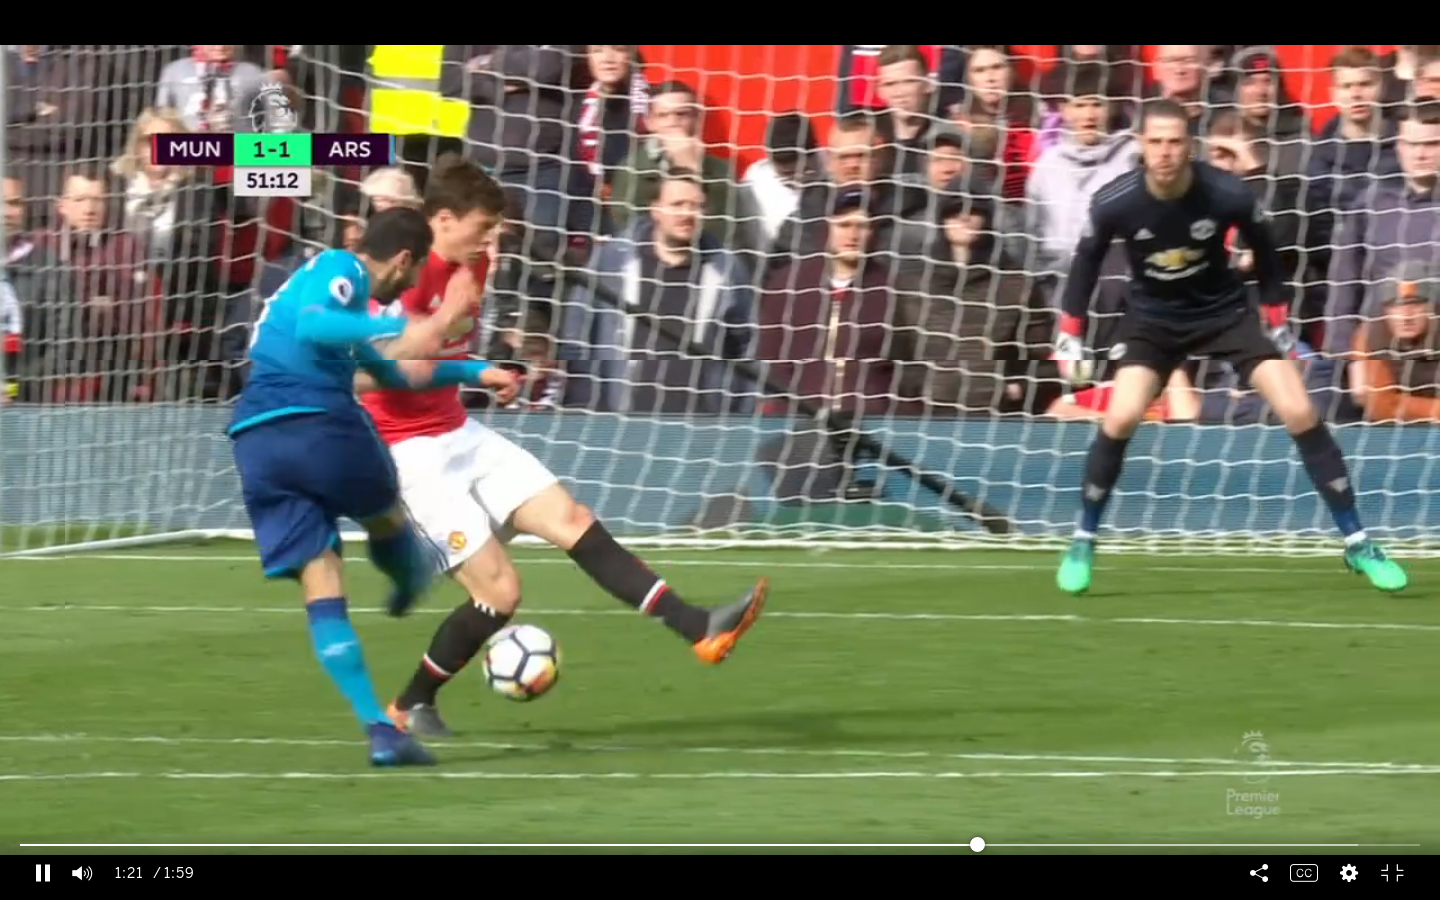soccer player: (376, 156, 781, 723), (1044, 96, 1405, 612), (233, 208, 427, 788)
soccerball: (482, 619, 564, 712)
